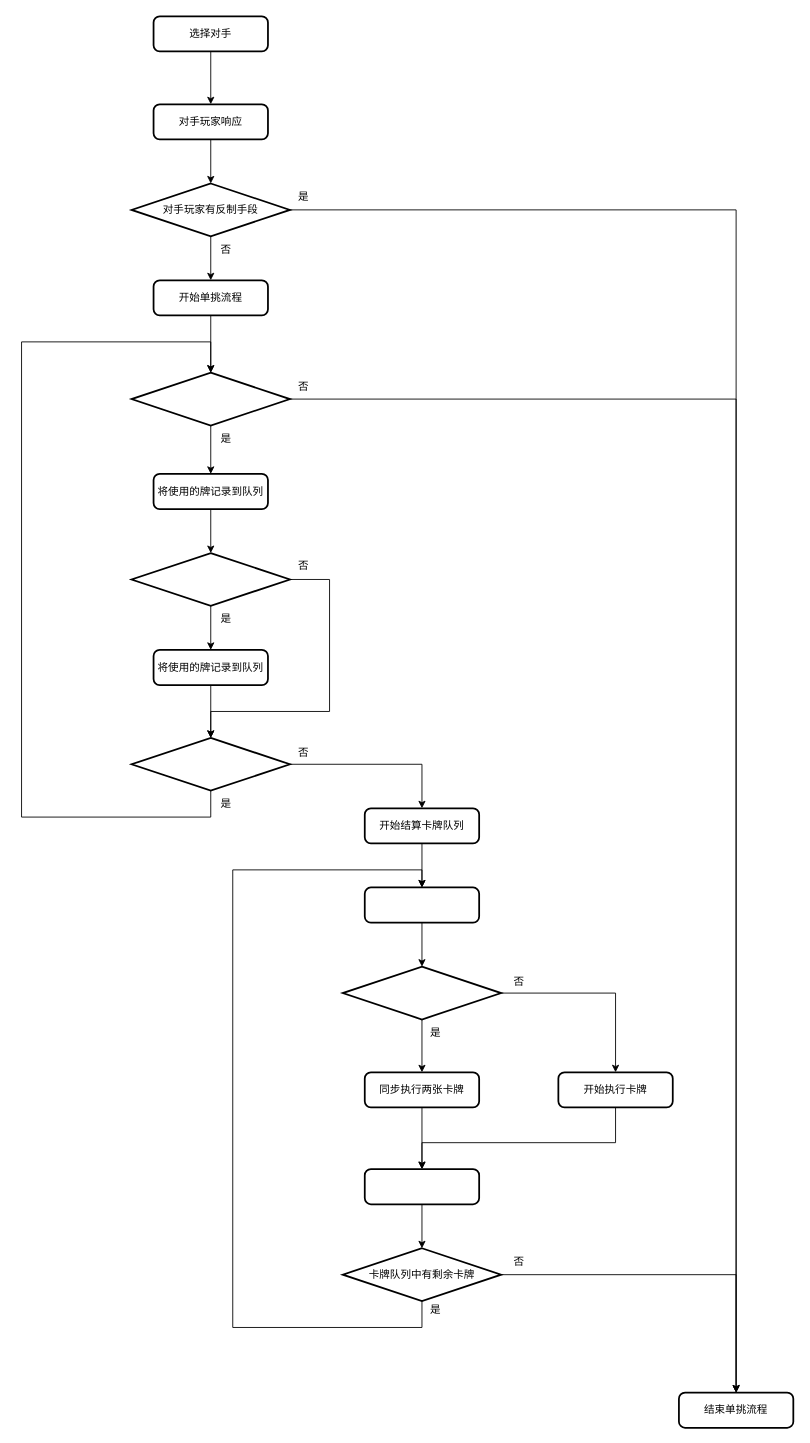
Some shapes in this 810 by 1443 pixel diagram are drawn without their labels. The box of each missing label's shape, as (x1, y1, x2, y2) in pixels:
使用手牌: (130, 371, 290, 426)
取出第一张卡牌: (363, 886, 480, 923)
对手使用反制手牌: (130, 552, 290, 606)
已使用手牌数量未 达到上线，且有手牌: (130, 737, 290, 791)
手牌有对应的反制卡牌: (341, 965, 502, 1020)
等待卡牌执行完毕: (363, 1168, 480, 1205)
